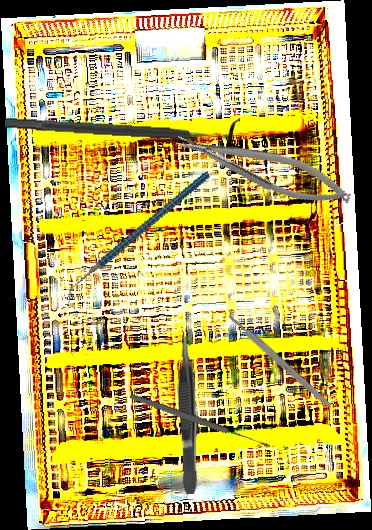Chopper: (40, 171, 235, 306)
Fixation Ring: (4, 103, 240, 155)
Needle Holder: (172, 116, 356, 219)
Scalpel Handle: (226, 312, 334, 410)
Surgical Spoon: (128, 391, 271, 451)
Tissue Forceps: (176, 333, 199, 495)
